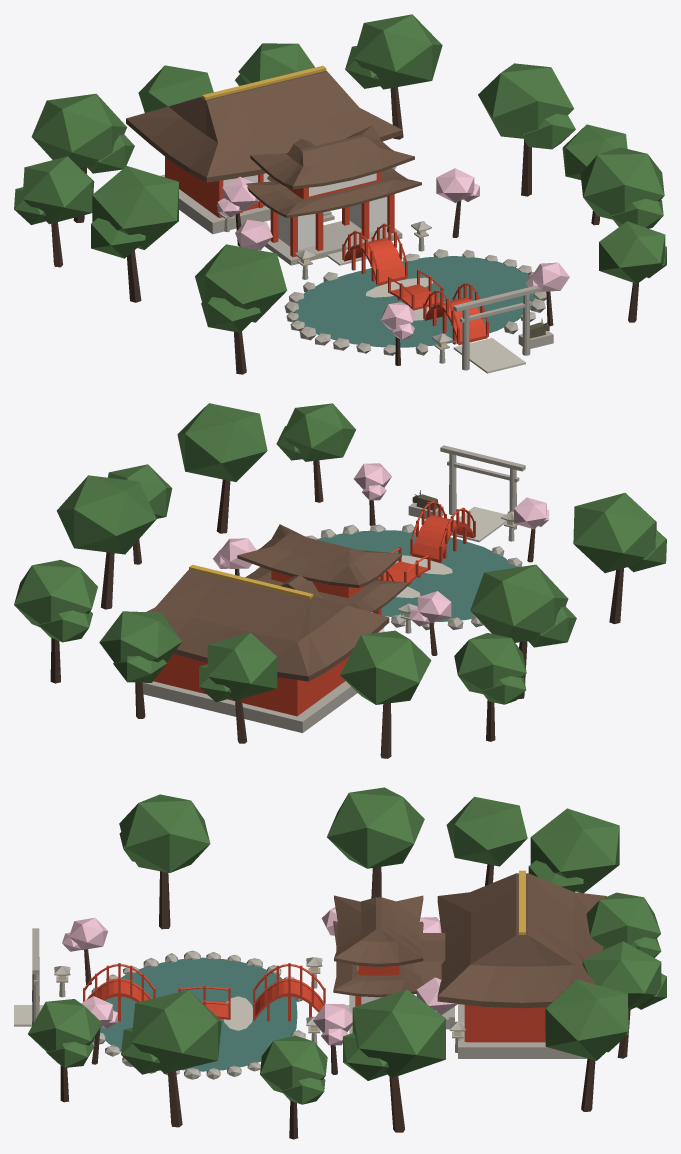
The model's file is dazaifu.glb.
3 views of the same model, one above another, from view 1: azimuth 30°, elevation 25°; view 2: azimuth 150°, elevation 25°; view 3: azimuth 270°, elevation 25° (orthographic). The views are drawn at different scales.
Parts seen in each view (by area): view 1: dazaifu_leaf, dazaifu_barkroof, dazaifu_water, dazaifu_stone, dazaifu_red, dazaifu_plum, dazaifu_bark, dazaifu_white, dazaifu_pave, dazaifu_gold; view 2: dazaifu_leaf, dazaifu_barkroof, dazaifu_red, dazaifu_stone, dazaifu_water, dazaifu_bark, dazaifu_plum, dazaifu_pave, dazaifu_gold; view 3: dazaifu_leaf, dazaifu_barkroof, dazaifu_water, dazaifu_red, dazaifu_stone, dazaifu_bark, dazaifu_plum, dazaifu_pave.
Part boxes in pixels (left/top/right/bottom): dazaifu_leaf: left=14, top=14, right=666, bottom=332; dazaifu_barkroof: left=126, top=70, right=421, bottom=217; dazaifu_water: left=295, top=256, right=536, bottom=347; dazaifu_stone: left=160, top=174, right=553, bottom=370; dazaifu_red: left=165, top=157, right=488, bottom=345; dazaifu_plum: left=217, top=166, right=569, bottom=339; dazaifu_bark: left=51, top=87, right=638, bottom=374; dazaifu_white: left=223, top=173, right=387, bottom=249; dazaifu_pave: left=327, top=250, right=525, bottom=373; dazaifu_gold: left=202, top=65, right=326, bottom=99; dazaifu_leaf: left=14, top=403, right=666, bottom=704; dazaifu_barkroof: left=146, top=524, right=408, bottom=681; dazaifu_red: left=153, top=500, right=475, bottom=716; dazaifu_stone: left=142, top=445, right=525, bottom=733; dazaifu_water: left=317, top=530, right=515, bottom=621; dazaifu_bark: left=50, top=460, right=623, bottom=758; dazaifu_plum: left=213, top=463, right=549, bottom=632; dazaifu_pave: left=395, top=506, right=506, bottom=598; dazaifu_gold: left=189, top=564, right=313, bottom=598; dazaifu_leaf: left=28, top=787, right=666, bottom=1104; dazaifu_barkroof: left=333, top=873, right=606, bottom=1008; dazaifu_water: left=100, top=957, right=297, bottom=1071; dazaifu_red: left=83, top=963, right=546, bottom=1042; dazaifu_stone: left=32, top=928, right=586, bottom=1079; dazaifu_bark: left=60, top=864, right=630, bottom=1139; dazaifu_plum: left=62, top=907, right=457, bottom=1045; dazaifu_pave: left=14, top=996, right=349, bottom=1030.
Bounding box in the file's own units: 21.45 × 4.9 × 22.29.
